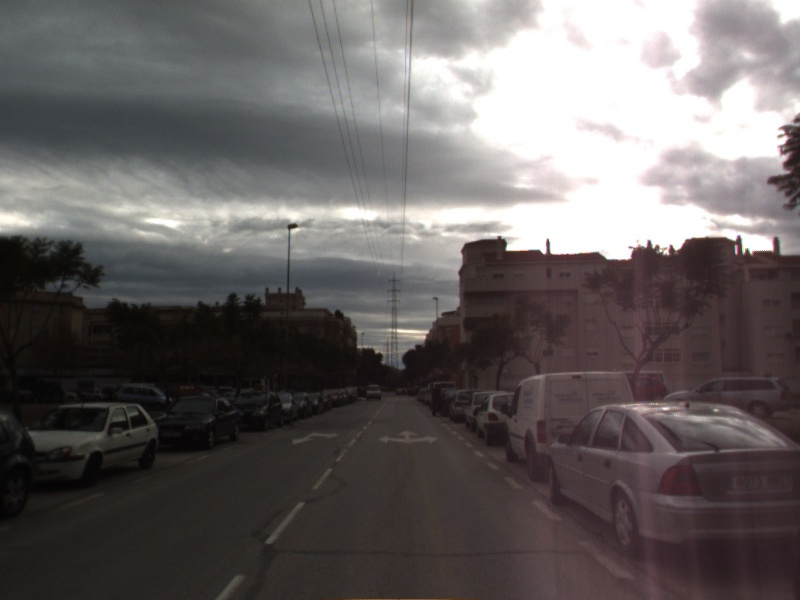STRAIGHT_LEFT_RIGHT: (376, 428, 440, 446)
